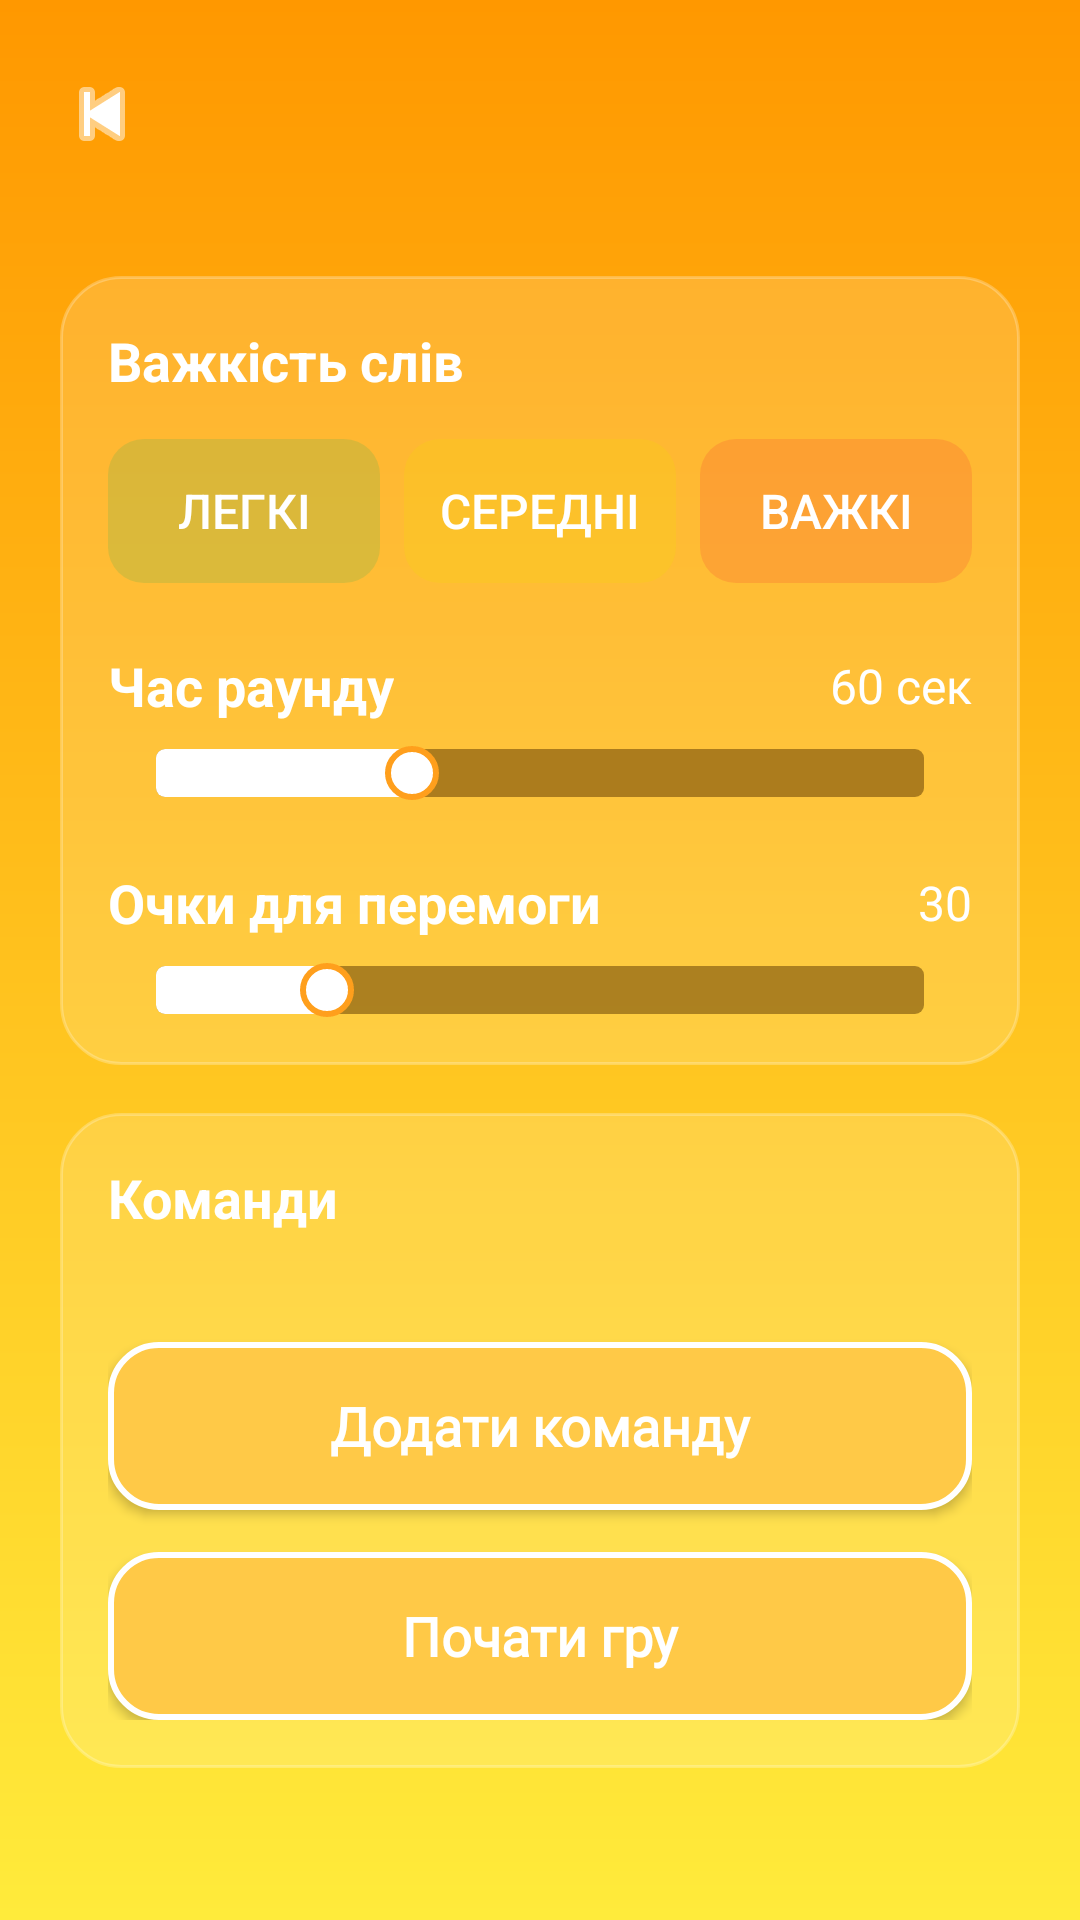

Where icons sit on this 1080 x 1920 app screen, as box(x1, y1, x2, y2):
Назад: box(79, 87, 125, 141)
